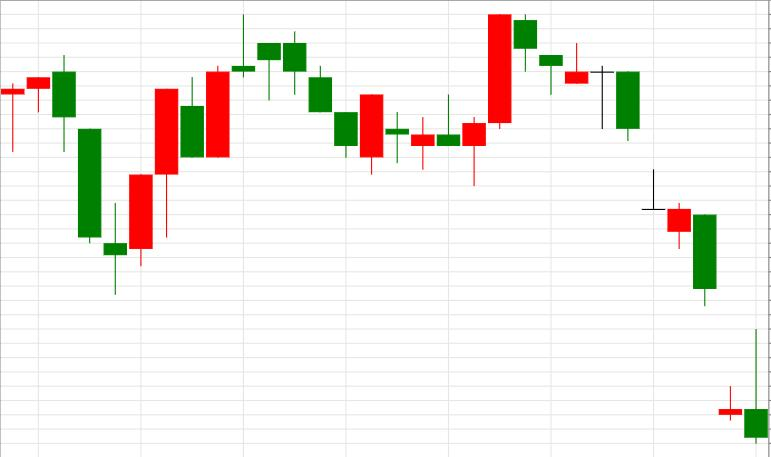bullish_engulfing_rise: (257, 31, 384, 174)
inverse_hammer_rise: (514, 16, 768, 445)
morning_star_rise: (27, 52, 152, 296)
